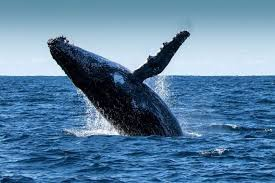humpback: (47, 36, 184, 137)
